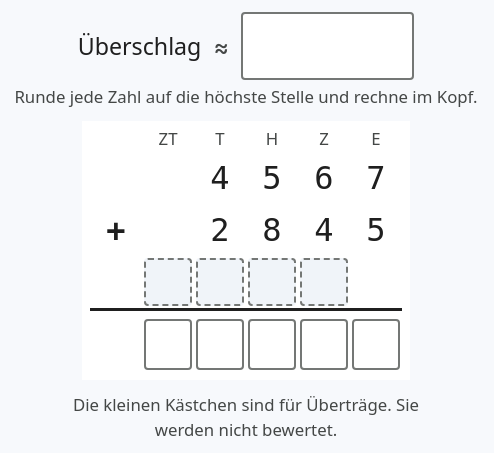
Test: WrittenInput: Überschlag first (Stufe 2–3) › reports the Überschlag with the result; checking without it is not an attempt
Type "2" into the field named "Ergebnis, Einer" at (376, 345), box x1=352 y1=319 x2=400 y2=370
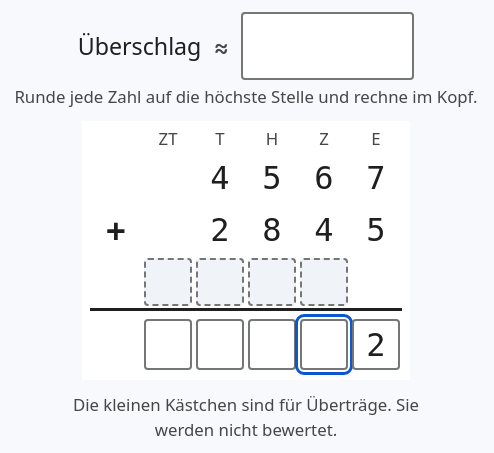
Type "8 000x" into the field labelled "Überschlag" at (328, 46), box x1=241 y1=12 x2=414 y2=80
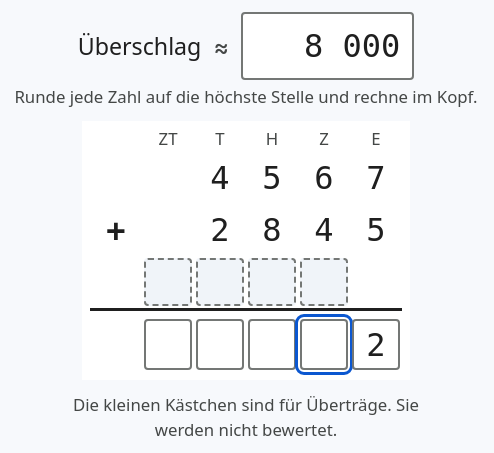
Now the field labelled "Überschlag" holds "8 000", box x1=241 y1=12 x2=414 y2=80
